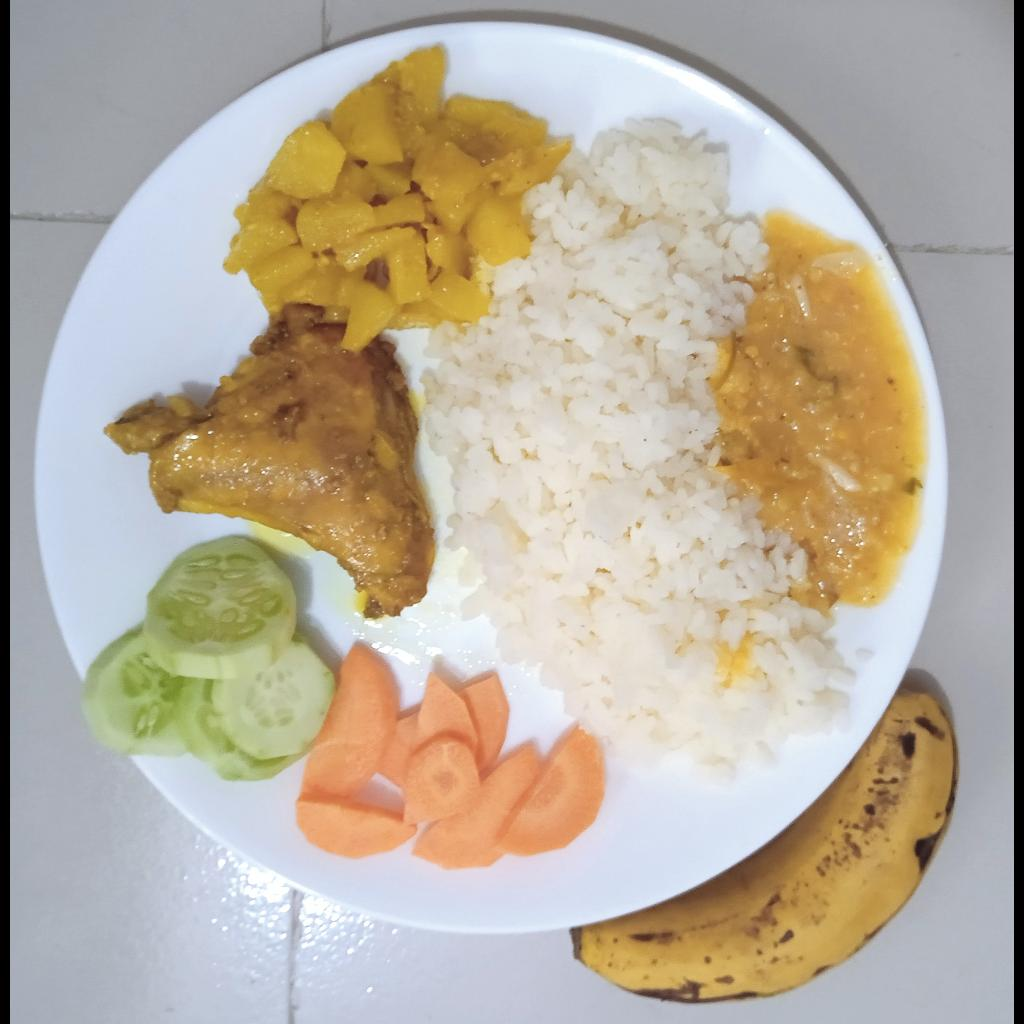banana: (572, 689, 960, 1003)
carrot: (295, 642, 605, 869)
chicken: (109, 307, 436, 621)
cucumber: (81, 536, 335, 778)
daal: (719, 225, 924, 608)
kumra-vaji: (224, 45, 573, 353)
rice: (424, 117, 856, 782)
